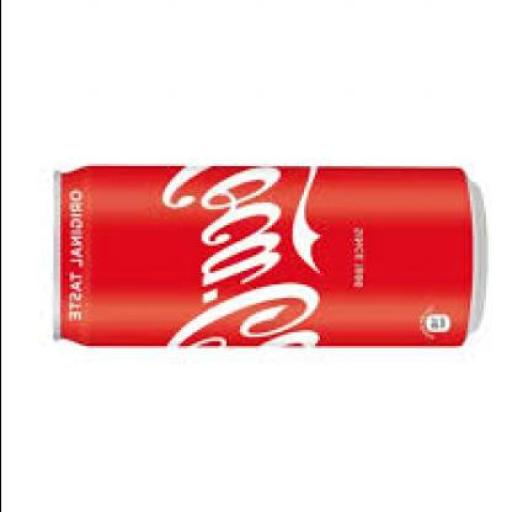metal: (48, 162, 482, 344)
